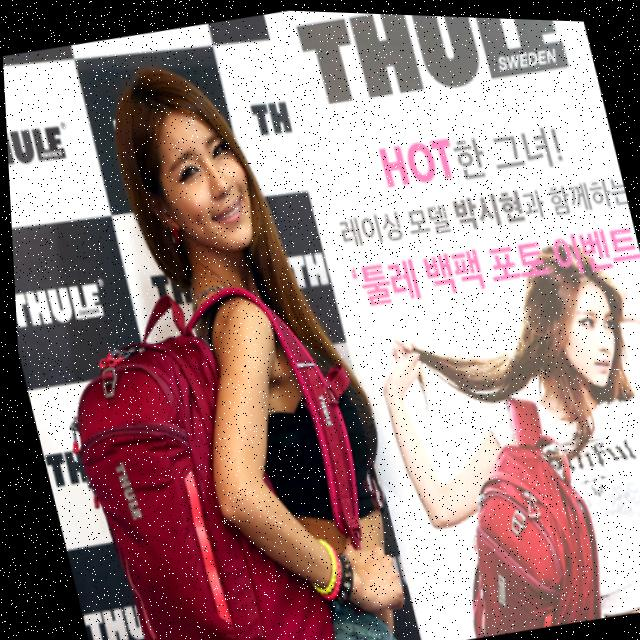backpack: (11, 254, 408, 640)
